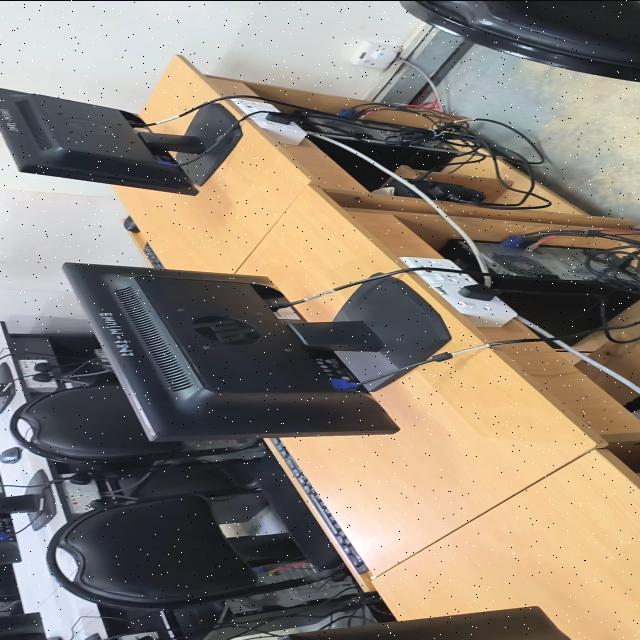Chair: (47, 451, 344, 609), (401, 0, 640, 81), (9, 383, 247, 464), (0, 563, 19, 601)
Cpu: (475, 240, 640, 344), (173, 575, 359, 640), (295, 113, 453, 170), (309, 135, 390, 190), (438, 238, 480, 272), (255, 562, 316, 584)
Keyboard: (273, 437, 368, 573)
Monitor: (63, 262, 451, 440), (0, 87, 241, 195), (0, 469, 55, 564), (0, 362, 15, 411)
Mouse: (0, 446, 21, 463)
